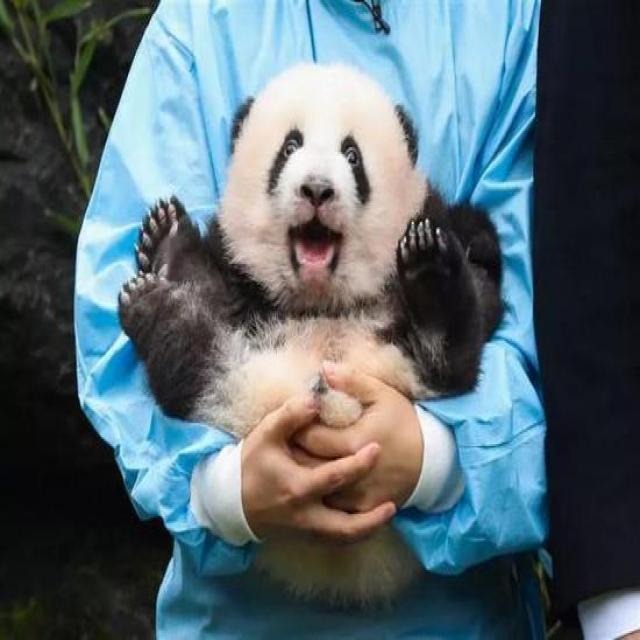panda: (120, 64, 536, 588)
